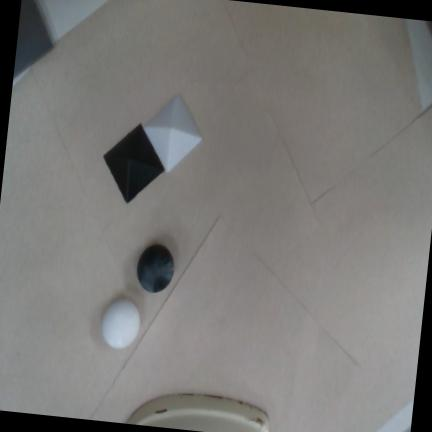Esfera: (101, 299, 140, 349), (137, 245, 175, 293)
Piramide: (103, 122, 165, 205), (143, 94, 203, 175)
